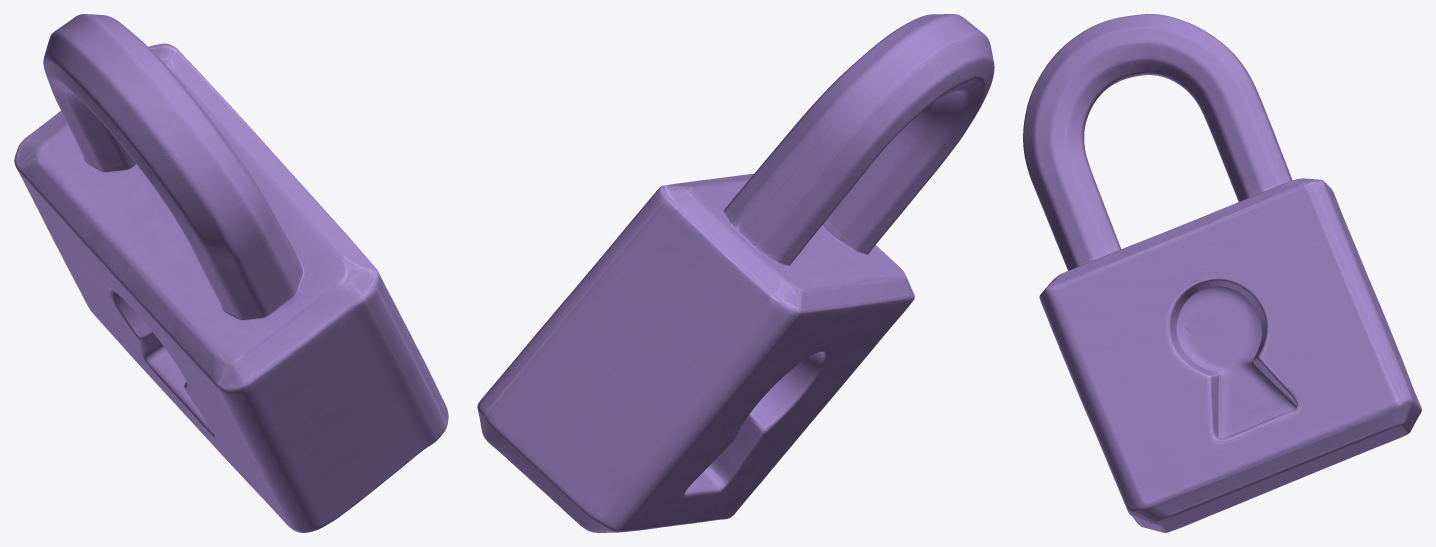
File: lock3d.glb
3 renders of one model, left to right at view 1: azimuth 30°, elevation 25°; view 2: azimuth 150°, elevation 25°; view 3: azimuth 270°, elevation 25°, orthographic. The views are drawn at different scales.
Parts seen in each view (by area): view 1: tripo_node_41d5734d-294d-4d42-8a46-c07104770df9; view 2: tripo_node_41d5734d-294d-4d42-8a46-c07104770df9; view 3: tripo_node_41d5734d-294d-4d42-8a46-c07104770df9.
Boxes of the visible parts, box(x1,y1,x2,y2) form: tripo_node_41d5734d-294d-4d42-8a46-c07104770df9: box(14, 14, 448, 532); tripo_node_41d5734d-294d-4d42-8a46-c07104770df9: box(477, 14, 994, 532); tripo_node_41d5734d-294d-4d42-8a46-c07104770df9: box(1023, 14, 1421, 532).
Bounding box in the file's own units: 0.697 × 0.9797 × 0.8155.
Materials: 1 (1 with a texture image).
